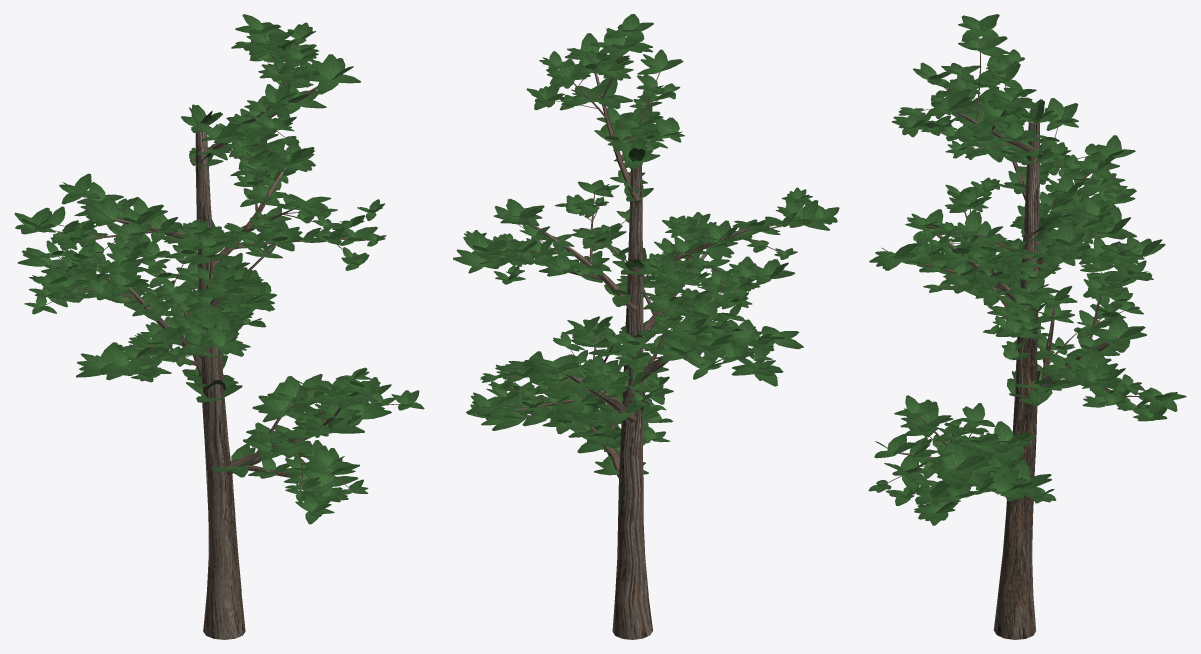
The model's file is tree_small_02.fbx.
The picture shows the model from 3 angles, left to right: view 1: azimuth 30°, elevation 25°; view 2: azimuth 150°, elevation 25°; view 3: azimuth 270°, elevation 25°; orthographic projection. The views are drawn at different scales.
Parts seen in each view (by area): view 1: tree_small_02_LOD0; view 2: tree_small_02_LOD0; view 3: tree_small_02_LOD0.
Part boxes in pixels (left/top/right/bottom): tree_small_02_LOD0: left=14, top=14, right=424, bottom=639; tree_small_02_LOD0: left=453, top=14, right=839, bottom=639; tree_small_02_LOD0: left=868, top=14, right=1186, bottom=639.
Size of what is drawn, in the model's own units: 3.83 by 6.35 by 2.95.
